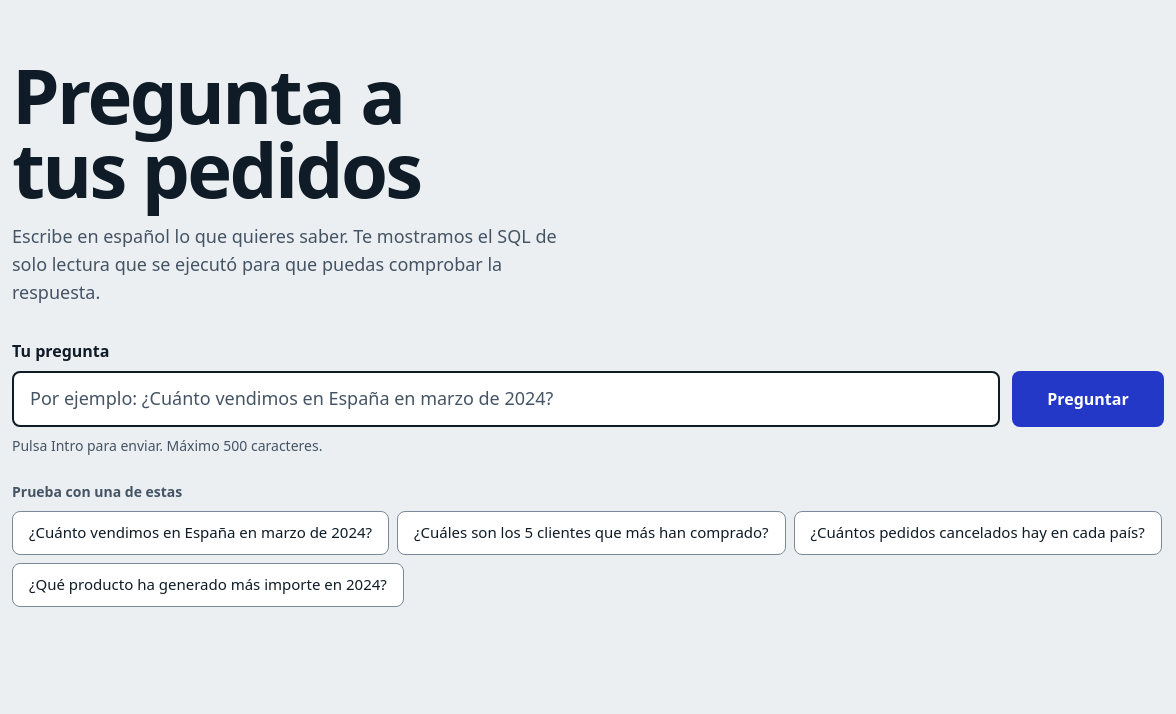
Scenario: QuestionPanel › muestra el SQL generado y una tabla dinámica con la respuesta
The image size is (1176, 714).
Type "¿Cuánto vendimos en España en marzo de 2024?" into the field labelled "Tu pregunta" at (506, 399), box x1=12 y1=371 x2=1000 y2=427
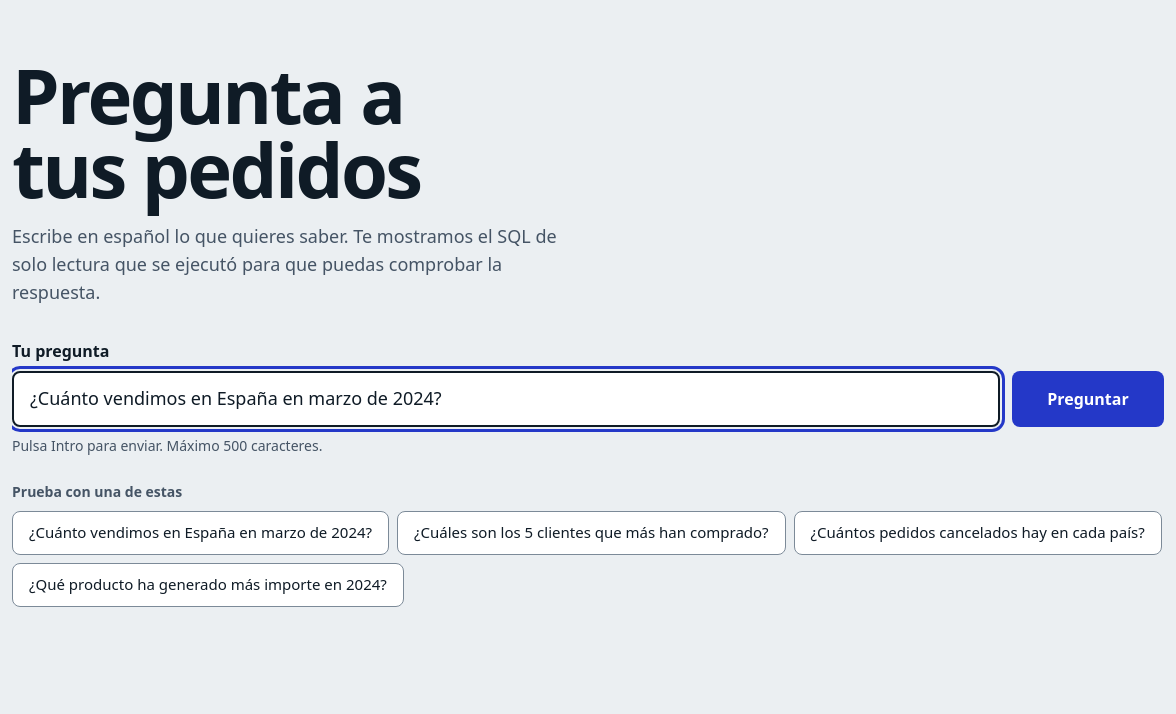
Click the button "Preguntar" at (1088, 399), box x1=1012 y1=371 x2=1164 y2=427
(page scrolled)
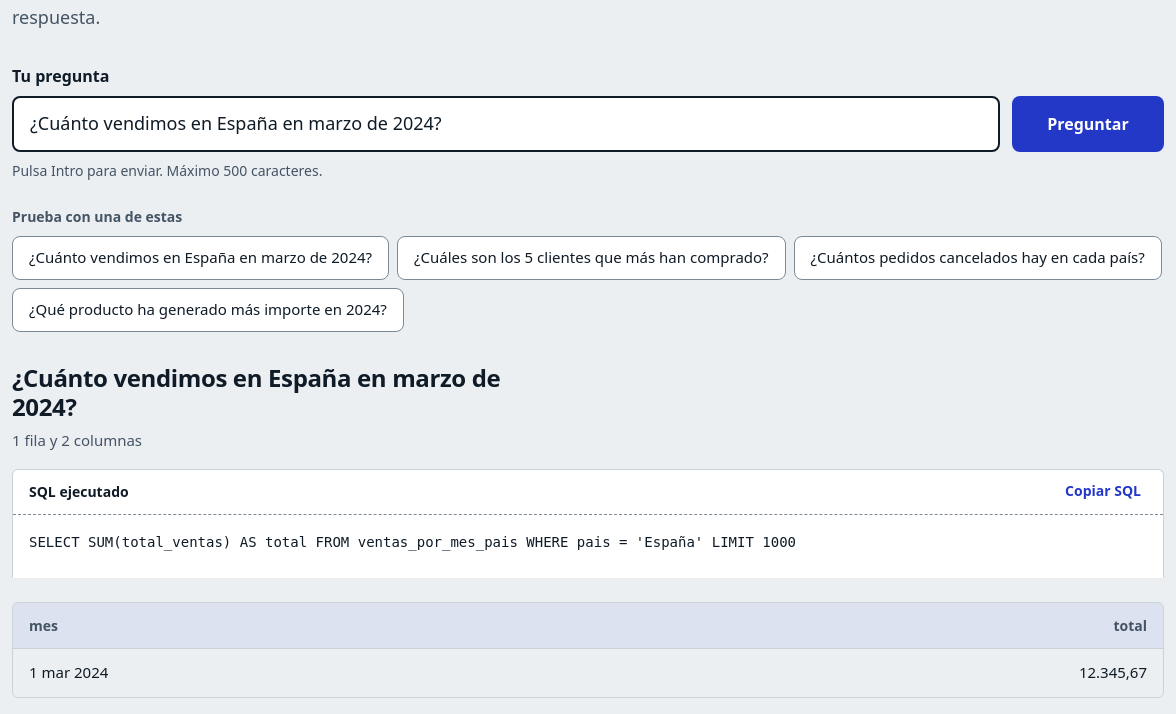
Check: the text "SELECT SUM(total_ventas)" is shown, box x1=29 y1=534 x2=796 y2=550
Check: the column heading "total" is shown, box x1=618 y1=603 x2=1163 y2=649
Check: the text "12.345,67" is shown, box x1=618 y1=649 x2=1163 y2=697
